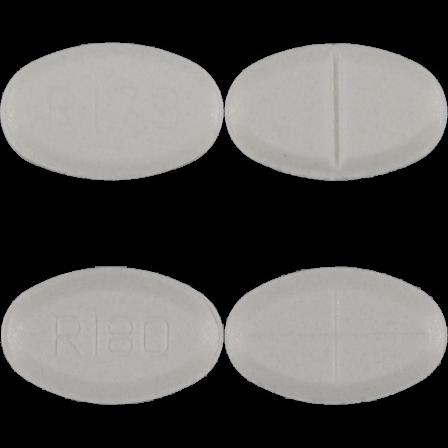33261-103: (0, 0, 224, 224)
